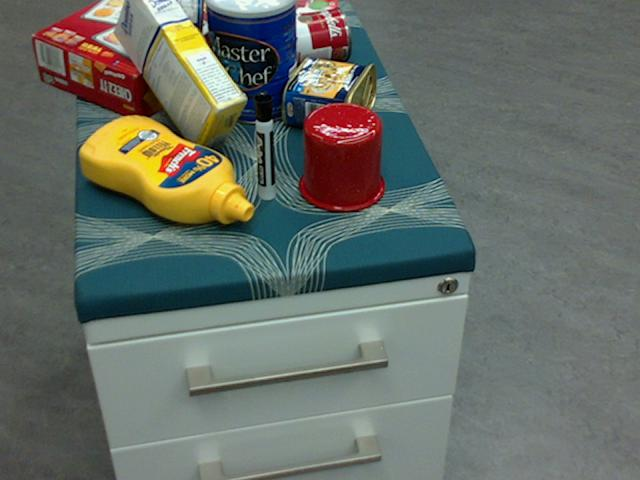cracker_box: (33, 0, 249, 122)
gelatin_box: (272, 0, 338, 39)
large_marker: (253, 91, 274, 198)
master_chef_can: (204, 0, 297, 124)
mug: (296, 101, 383, 211)
mustard_bottle: (79, 116, 253, 222)
potted_meat_can: (282, 55, 376, 138)
sugar_box: (114, 0, 248, 154)
tomato_soup_can: (259, 6, 351, 72)
tuna_fish_can: (170, 0, 202, 50)
